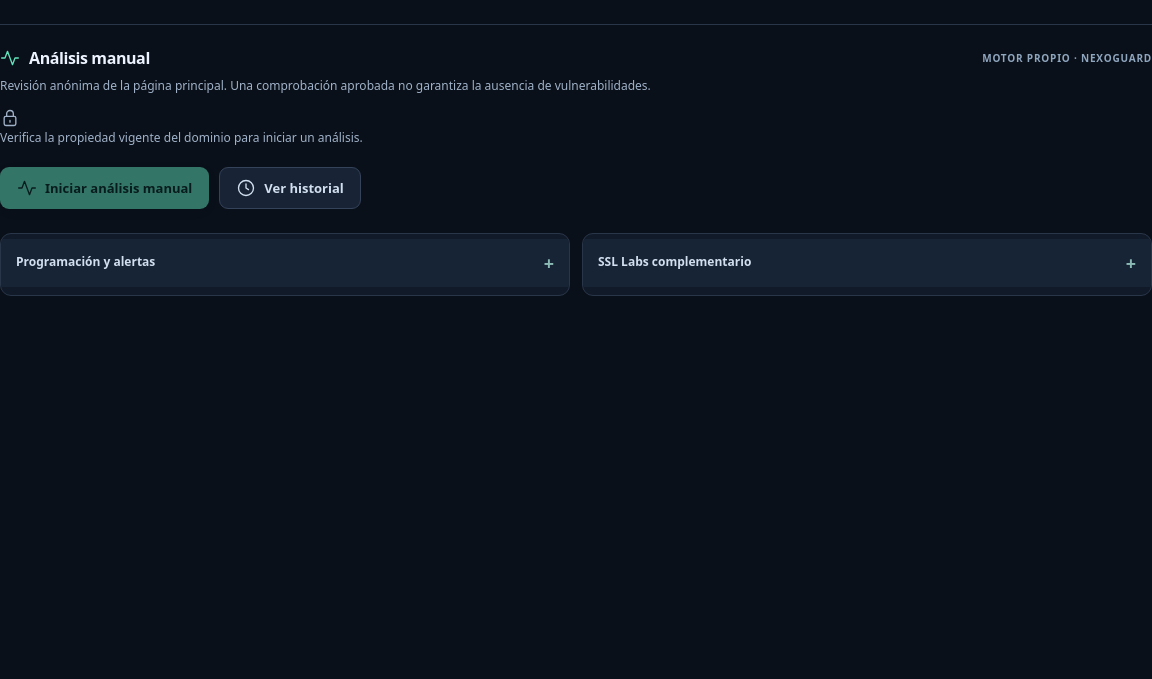
it: impide iniciar sin propiedad verificada y conserva el historial
This screenshot has width=1152, height=679.
Check: the button "Iniciar análisis manual" is disabled, box [0,167,209,209]
Step 1. Click the button "Ver historial" → (290, 188), box [219,167,361,209]
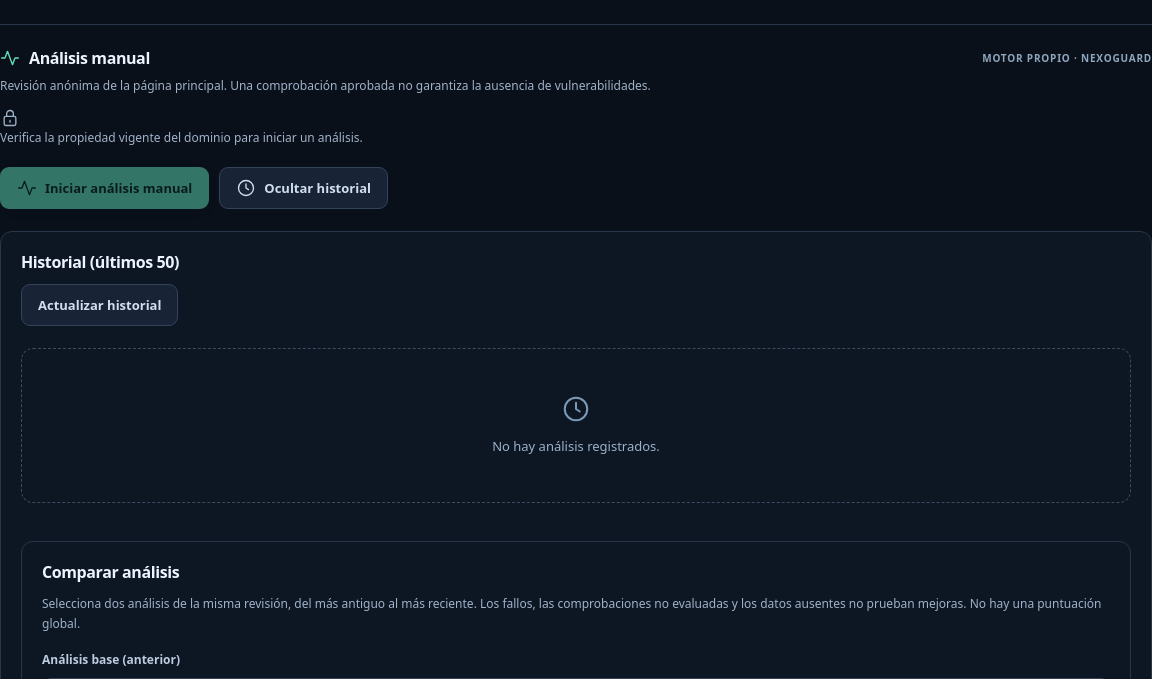
Check: the text "No hay análisis registrados." is shown, box [492,436,660,457]
